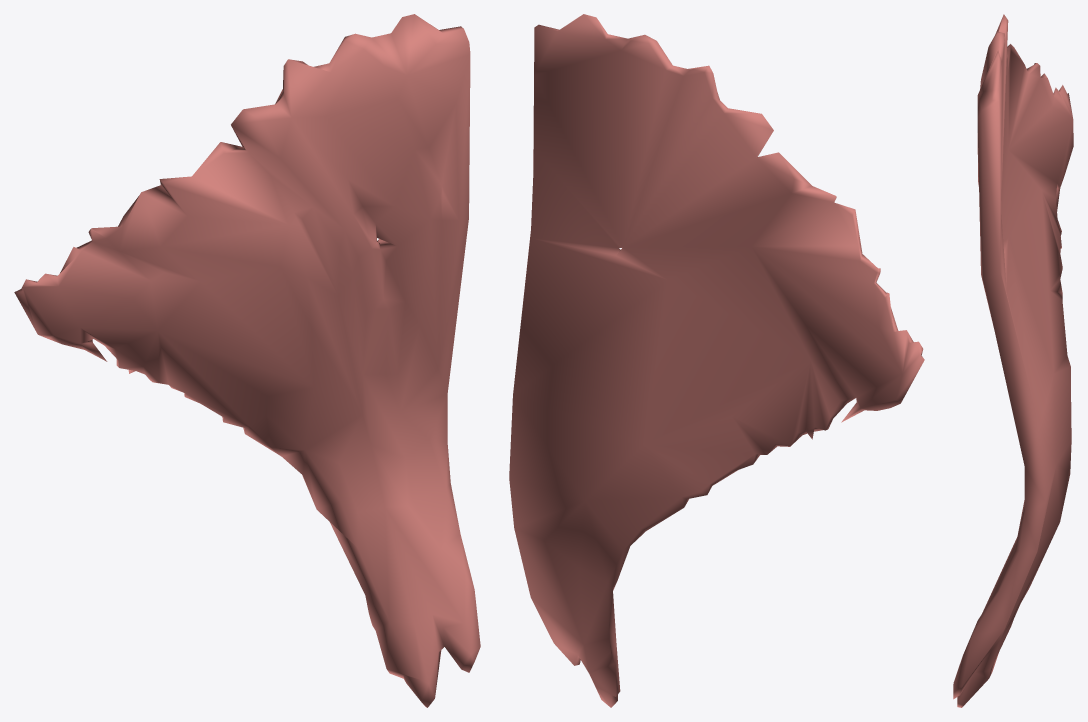
The picture shows the model from 3 angles, left to right: view 1: azimuth 30°, elevation 25°; view 2: azimuth 150°, elevation 25°; view 3: azimuth 270°, elevation 25°; orthographic projection. The views are drawn at different scales.
Visible parts, largest first — view 1: ZA_0fb6711a8ee131c5; view 2: ZA_0fb6711a8ee131c5; view 3: ZA_0fb6711a8ee131c5.
Boxes of the visible parts, left/top/right/bottom form: ZA_0fb6711a8ee131c5: left=14, top=14, right=480, bottom=707; ZA_0fb6711a8ee131c5: left=509, top=14, right=924, bottom=707; ZA_0fb6711a8ee131c5: left=953, top=14, right=1073, bottom=707.
Bounding box in the file's own units: 0.0232 × 0.0365 × 0.00609.
